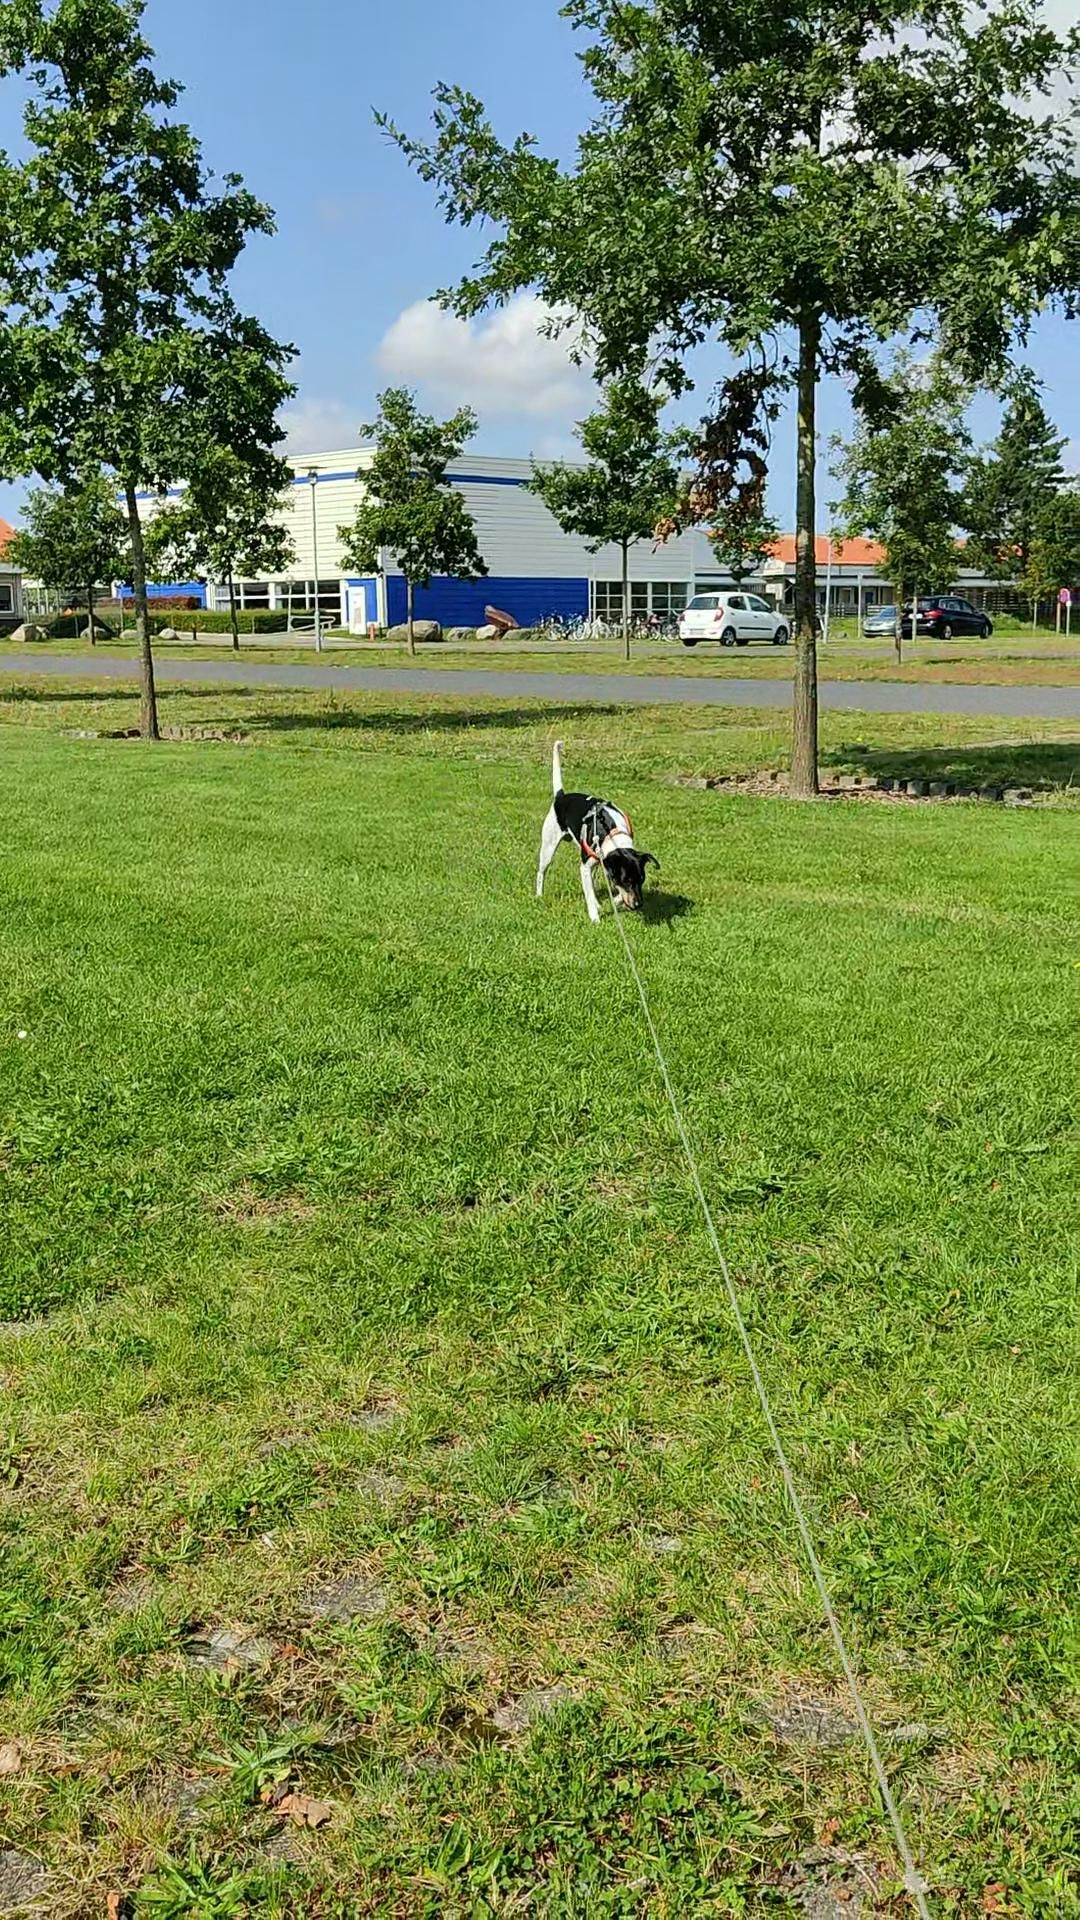Dog: (522, 735, 666, 928)
